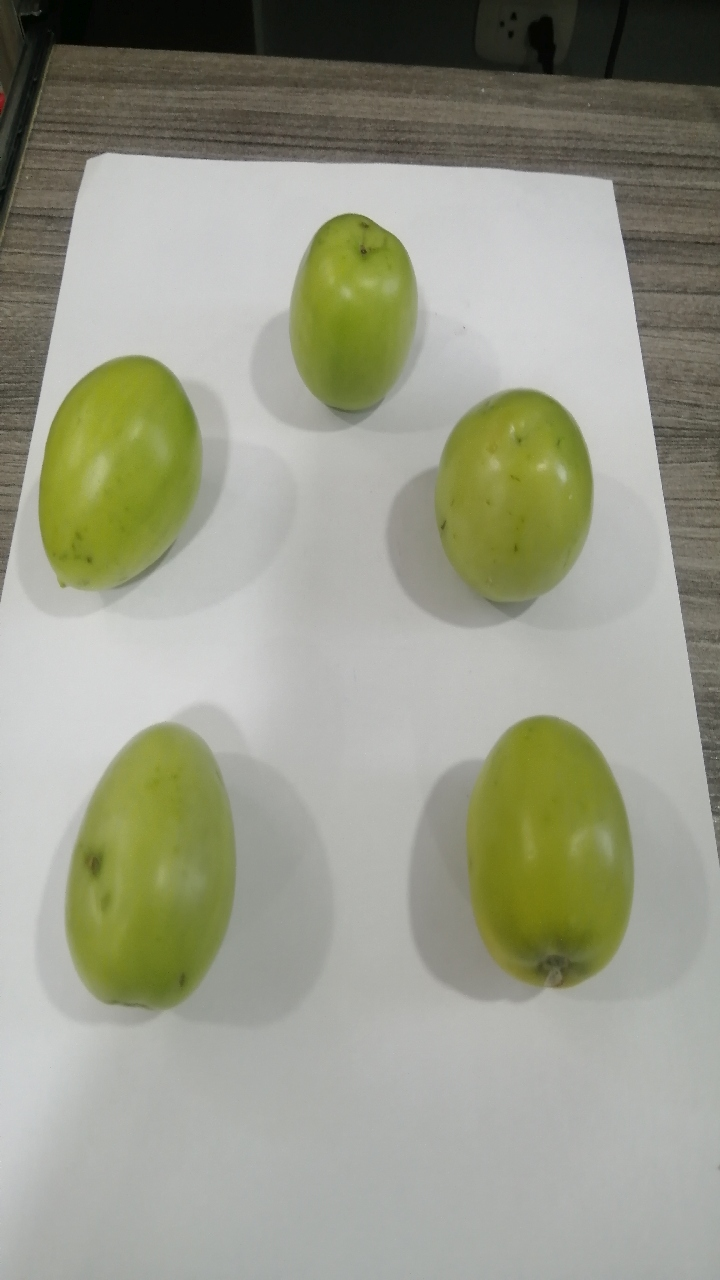tomateVerde: (32, 708, 254, 1035), (452, 699, 654, 1019), (18, 342, 237, 625), (403, 380, 601, 615), (266, 179, 434, 423)
